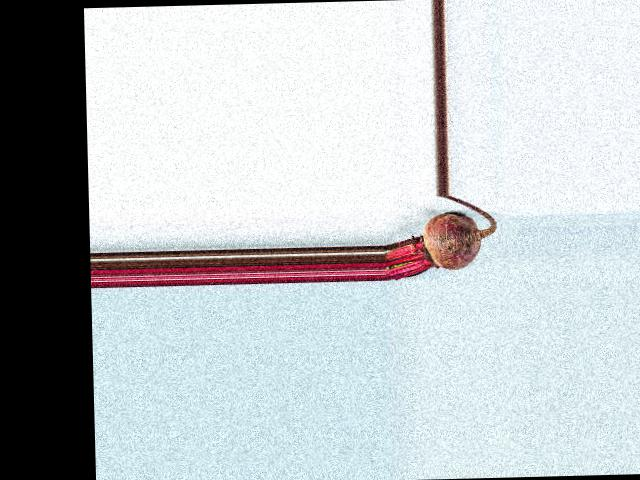beet: (381, 194, 497, 280)
